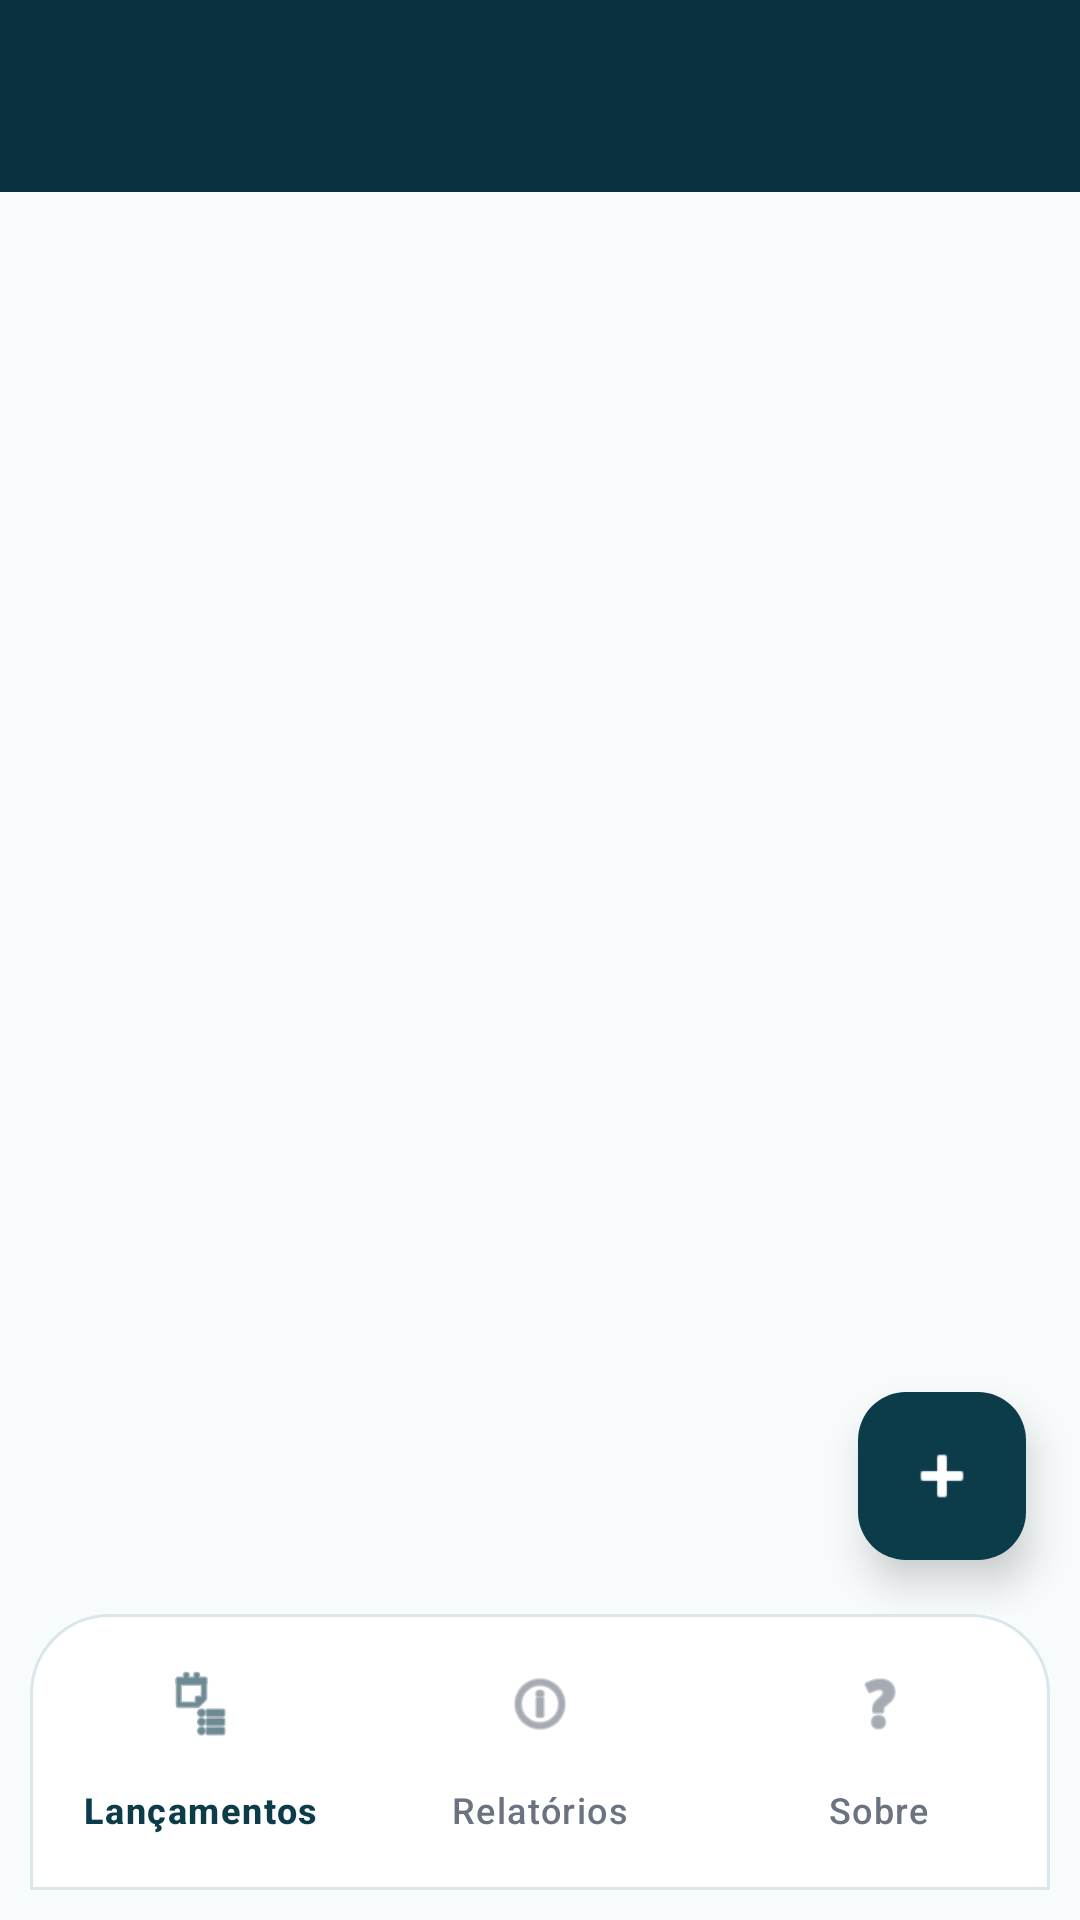

Icon bounding boxes for this 1080 × 1920 phone screenshot, format (x1, y1, x2, y2):
Adicionar: (858, 1392, 1026, 1560)
